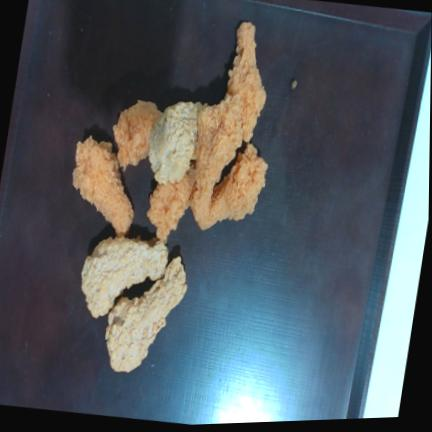chicken: (105, 257, 186, 372), (81, 237, 167, 317), (191, 95, 241, 227), (72, 136, 133, 236), (199, 143, 267, 229), (225, 22, 266, 141), (148, 101, 205, 183)
